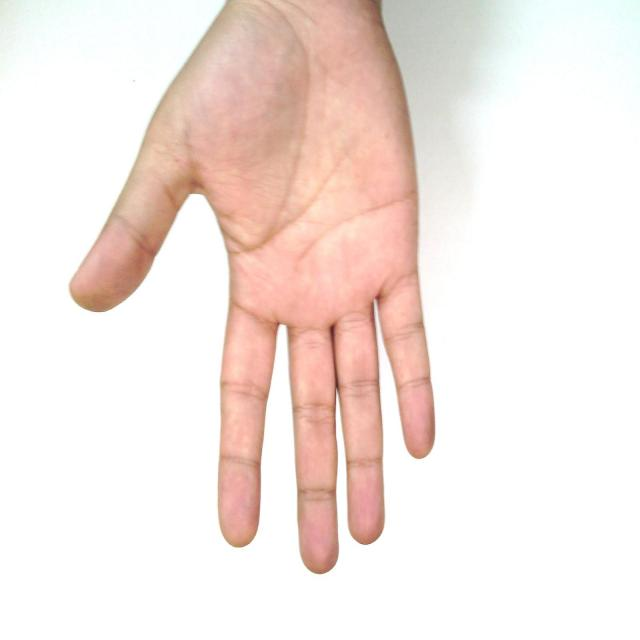others: (40, 0, 580, 574)
